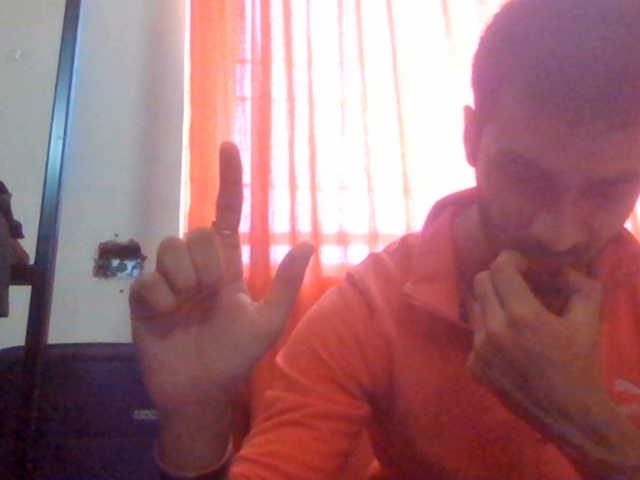L: (101, 141, 350, 471)
